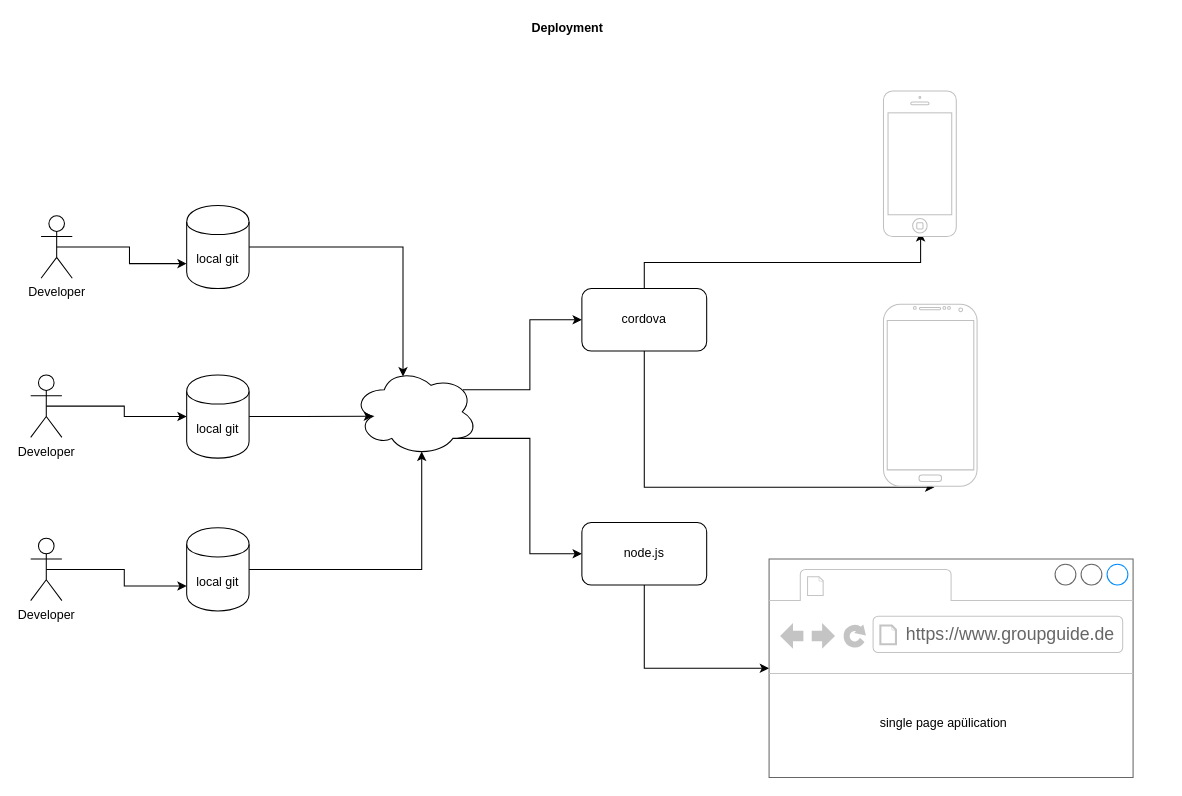
This 1182x796 diagram has some shape labels left out. Each missing label, with the centre of its shape:
android app: the point at 929,394
github: the point at 415,411
iphone app: the point at 919,163
Page 1: the point at 888,584
